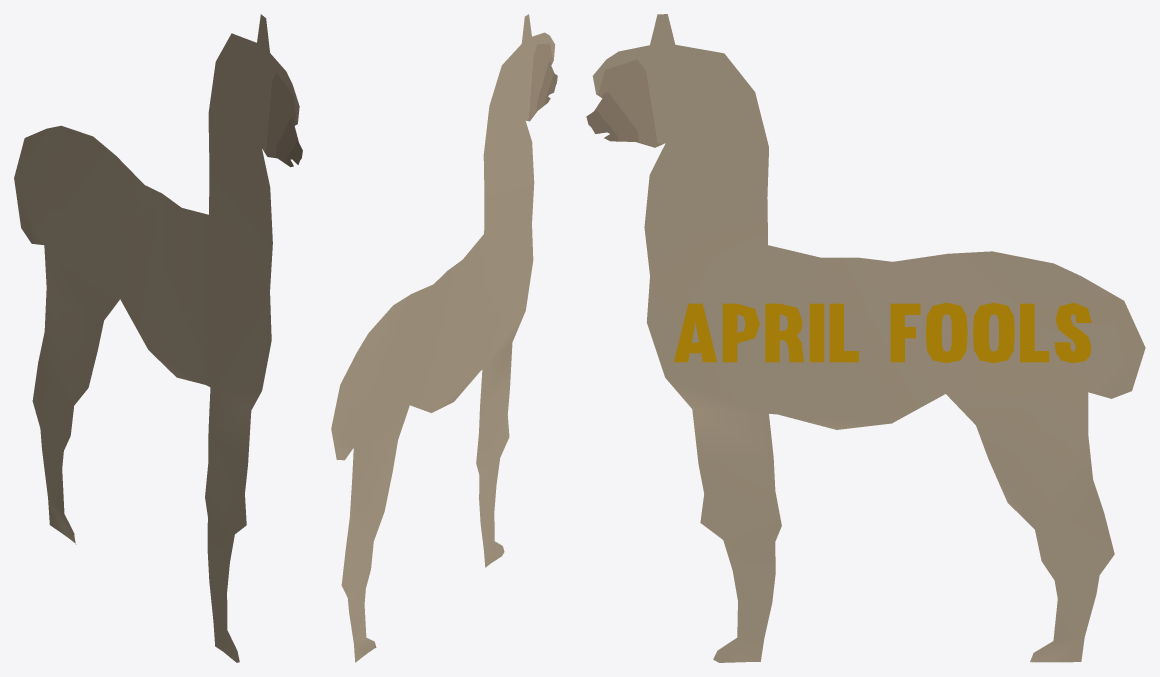
The model's file is SM_Chr_Alpaca_01.fbx.
The picture shows the model from 3 angles, left to right: view 1: azimuth 30°, elevation 25°; view 2: azimuth 150°, elevation 25°; view 3: azimuth 270°, elevation 25°; orthographic projection. The views are drawn at different scales.
Parts seen in each view (by area): view 1: SM_Chr_Alpaca_01; view 2: SM_Chr_Alpaca_01; view 3: SM_Chr_Alpaca_01.
Part boxes in pixels (<box>): SM_Chr_Alpaca_01: <box>14,14,302,662</box>; SM_Chr_Alpaca_01: <box>331,14,557,662</box>; SM_Chr_Alpaca_01: <box>586,14,1145,662</box>.
Bounding box in the file's own units: 0.4931 × 79.89 × 62.52.
